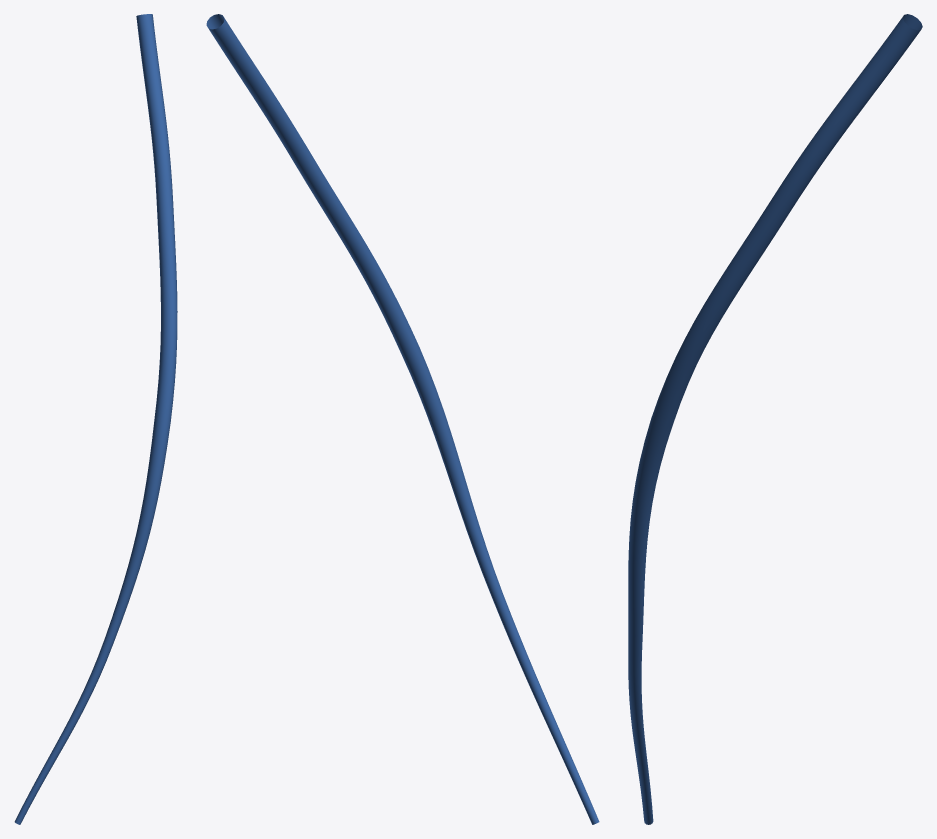
3 views of the same model, side by side, from view 1: azimuth 30°, elevation 25°; view 2: azimuth 150°, elevation 25°; view 3: azimuth 270°, elevation 25° (orthographic). The views are drawn at different scales.
Parts seen in each view (by area): view 1: 左侧舌静脉; view 2: 左侧舌静脉; view 3: 左侧舌静脉.
Boxes of the visible parts, box(x1,y1,x2,y2) form: 左侧舌静脉: box(14, 14, 177, 824); 左侧舌静脉: box(206, 14, 599, 824); 左侧舌静脉: box(628, 14, 922, 824).
Bounding box in the file's own units: 0.0238 × 0.0678 × 0.0189.
